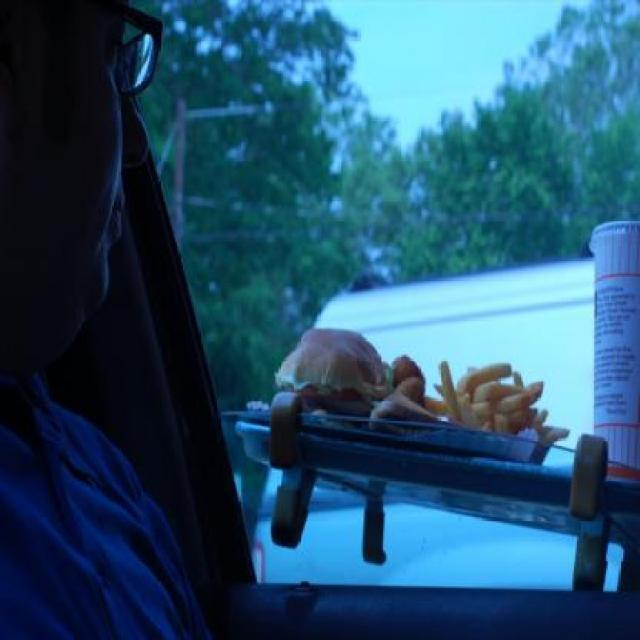French fries: (432, 329, 571, 440)
